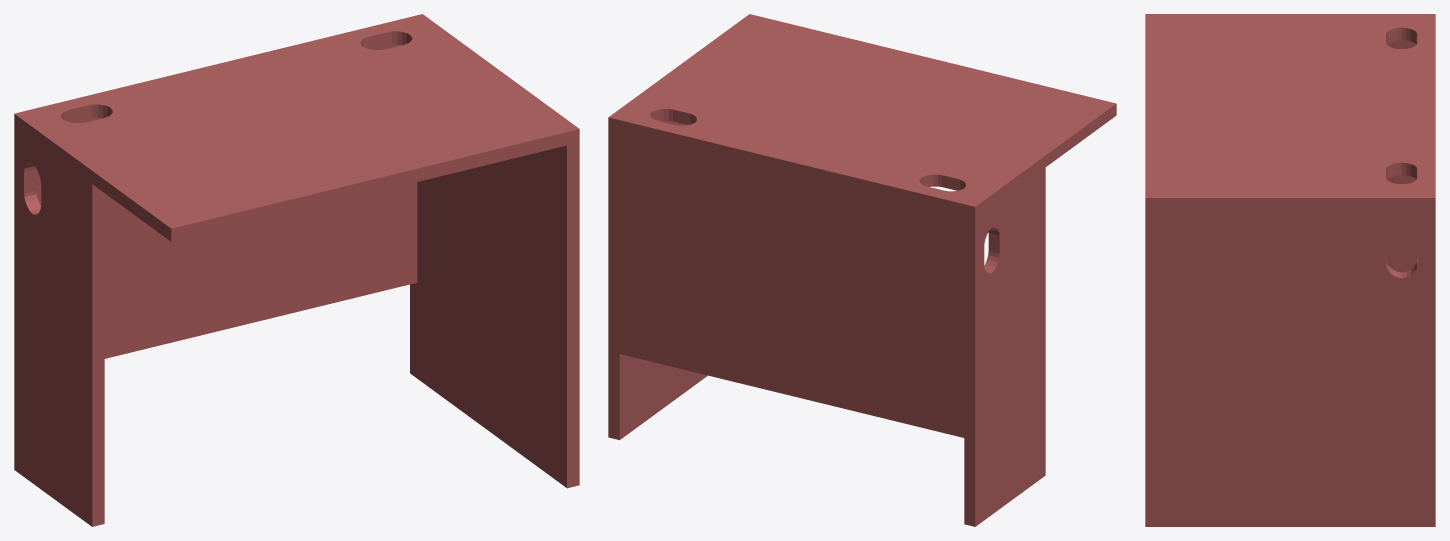
The model's file is desk.glb.
3 views of the same model, side by side, from view 1: azimuth 30°, elevation 25°; view 2: azimuth 150°, elevation 25°; view 3: azimuth 270°, elevation 25° (orthographic). The views are drawn at different scales.
Visible parts, largest first — view 1: Mesh_Mesh_head_geo.001_lambert2SG.001; view 2: Mesh_Mesh_head_geo.001_lambert2SG.001; view 3: Mesh_Mesh_head_geo.001_lambert2SG.001.
Boxes of the visible parts, bbox=[...] form: Mesh_Mesh_head_geo.001_lambert2SG.001: bbox=[14, 14, 579, 526]; Mesh_Mesh_head_geo.001_lambert2SG.001: bbox=[608, 14, 1116, 526]; Mesh_Mesh_head_geo.001_lambert2SG.001: bbox=[1145, 14, 1435, 526].
Bounding box in the file's own units: 0.9 × 0.75 × 0.6.
